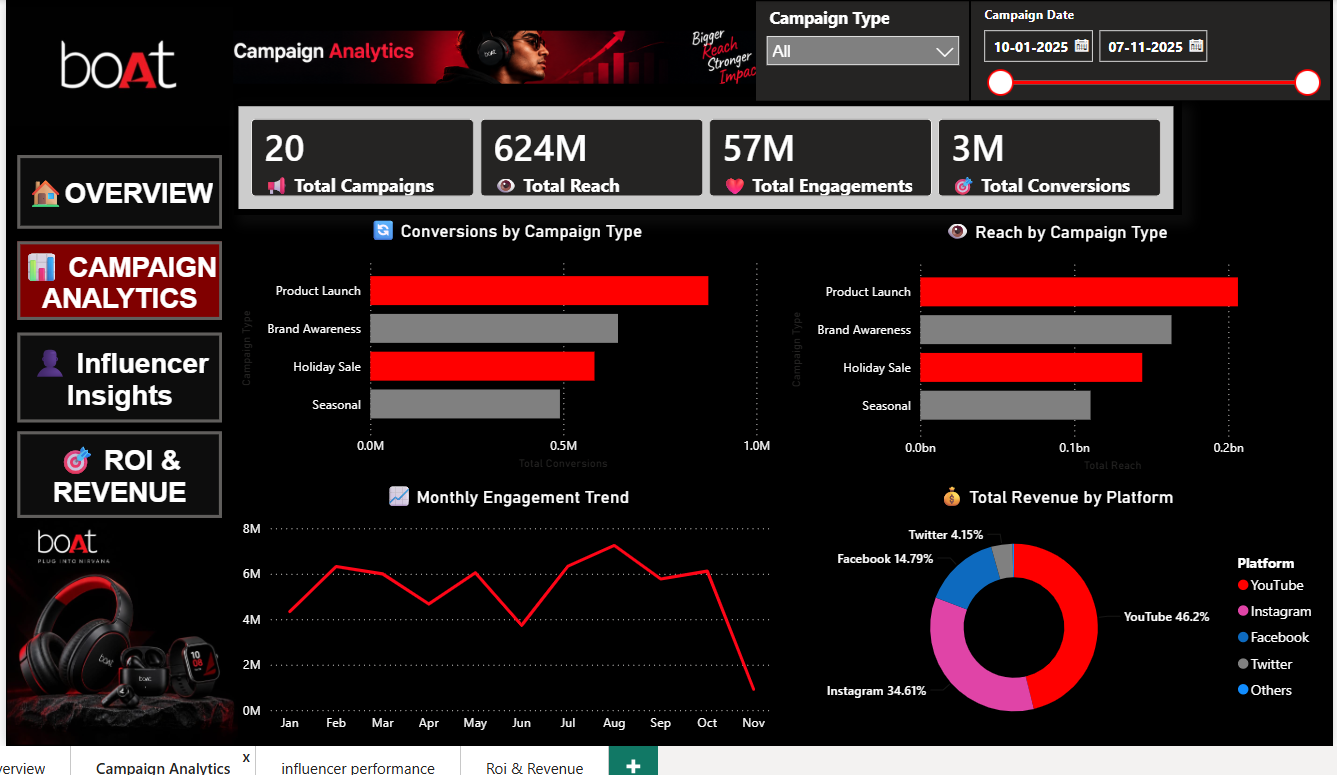

This screenshot's page, from the dashboard's own definition file:
{"tool":"powerbi","page":{"name":"Campaign Analytics","canvas":[1280,720],"ordinal":1},"visuals":[{"type":"image","box":[218.6,0,514.3,110],"z":0},{"type":"image","box":[0,0,219.6,129],"z":1000},{"type":"cardVisual","fields":{"Data":["Fact_CampaignPerformance.Total Campaigns","Fact_CampaignPerformance.Total Reach","Fact_CampaignPerformance.Total Engagements","Fact_CampaignPerformance.Total Conversions"]},"box":[219.6,97.4,915.3,109.8],"z":2000},{"type":"actionButton","box":[10.9,149.6,197.9,71.2],"z":3000},{"type":"actionButton","box":[10.9,232.8,197.9,76],"z":4000},{"type":"actionButton","box":[10.9,320.9,197.9,86.9],"z":5000},{"type":"actionButton","box":[11,415.8,197.6,83.7],"z":6000},{"type":"slicer","fields":{"Values":["Dim_Campaign.Campaign Type"]},"box":[724.3,1.4,205.7,95.7],"z":7000},{"type":"slicer","fields":{"Values":["Dim_Date.Date"]},"box":[931.7,1.4,345.8,95],"z":8000},{"type":"clusteredBarChart","title":"🔄 Conversions by Campaign Type","fields":{"Category":["Dim_Campaign.Campaign Type"],"Y":["Fact_CampaignPerformance.Total Conversions"]},"box":[222.3,208.6,521.4,249.7],"z":9000},{"type":"clusteredBarChart","title":"👁️ Reach by Campaign Type","fields":{"Category":["Dim_Campaign.Campaign Type"],"Y":["Fact_CampaignPerformance.Total Reach"]},"box":[753.3,209.9,521.4,249.7],"z":10000},{"type":"lineChart","title":"📈 Monthly Engagement Trend","fields":{"Y":["Fact_CampaignPerformance.Total Engagements"],"Category":["Dim_Date.Month Name"]},"box":[223.7,465.2,521.4,249.7],"z":11000},{"type":"donutChart","title":"💰 Total Revenue by Platform","fields":{"Category":["Dim_Influencer.Platform"],"Y":["Fact_CampaignPerformance.Total Revenue"]},"box":[753.3,465.2,521.4,249.7],"z":12000},{"type":"image","box":[1.4,499.1,222.3,220.9],"z":13000}]}

Visuals, with their boxes on the page's 1280x720 design canvas (x1, y1, x2, y2). These are canvas units, not pixel positions in the 1337x775 screenshot, which may show the page scaled, cropped or inside an application window:
image: 219 0 733 110
image: 0 0 220 129
cardVisual - Fact_CampaignPerformance.Total Campaigns x Fact_CampaignPerformance.Total Reach: 220 97 1135 207
actionButton: 11 150 209 221
actionButton: 11 233 209 309
actionButton: 11 321 209 408
actionButton: 11 416 209 500
slicer - Dim_Campaign.Campaign Type: 724 1 930 97
slicer - Dim_Date.Date: 932 1 1278 96
"🔄 Conversions by Campaign Type" clusteredBarChart: 222 209 744 458
"👁️ Reach by Campaign Type" clusteredBarChart: 753 210 1275 460
"📈 Monthly Engagement Trend" lineChart: 224 465 745 715
"💰 Total Revenue by Platform" donutChart: 753 465 1275 715
image: 1 499 224 720
